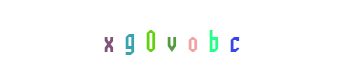0: (119, 0, 199, 80)
B: (173, 0, 253, 80)
C: (194, 0, 274, 80)
G: (91, 0, 171, 80)
O: (137, 0, 217, 80)
V: (134, 0, 214, 80)
X: (69, 0, 149, 80)
